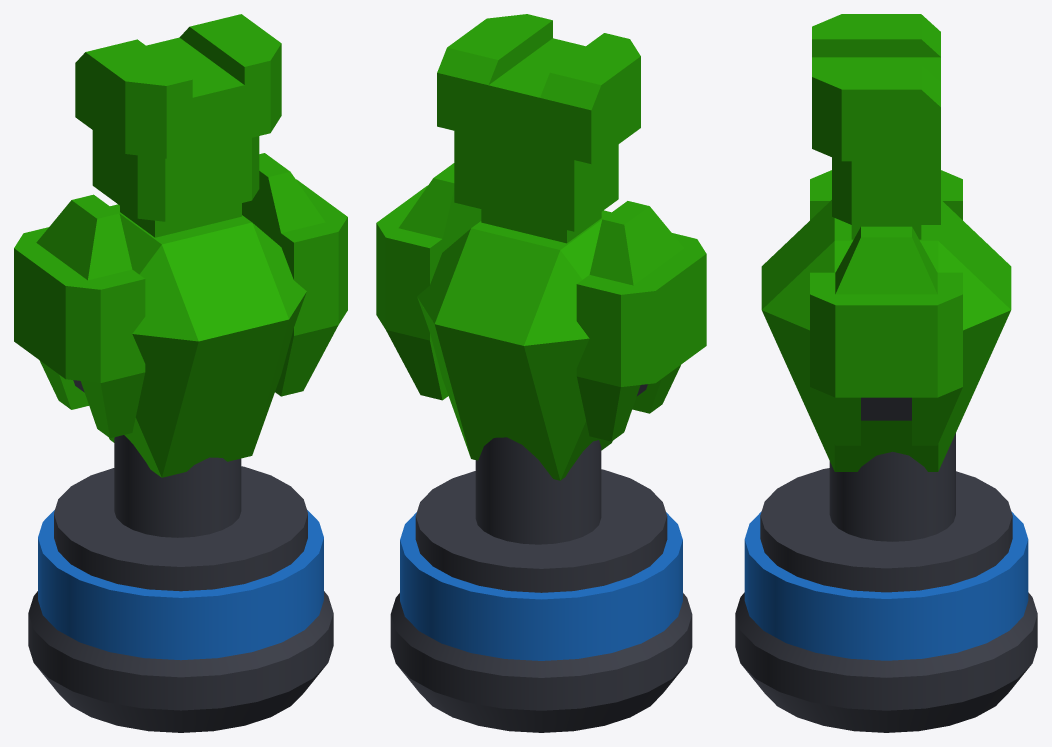
The model's file is tower_emerald_golem.obj.
3 views of the same model, side by side, from view 1: azimuth 30°, elevation 25°; view 2: azimuth 150°, elevation 25°; view 3: azimuth 270°, elevation 25° (orthographic).
Parts seen in each view (by area): view 1: mergedBlocks; view 2: mergedBlocks; view 3: mergedBlocks.
Part boxes in pixels (<box>): mergedBlocks: <box>14,14,347,732</box>; mergedBlocks: <box>376,14,706,732</box>; mergedBlocks: <box>735,14,1037,732</box>.
Bounding box in the file's own units: 1.03 × 2.2 × 0.96.
